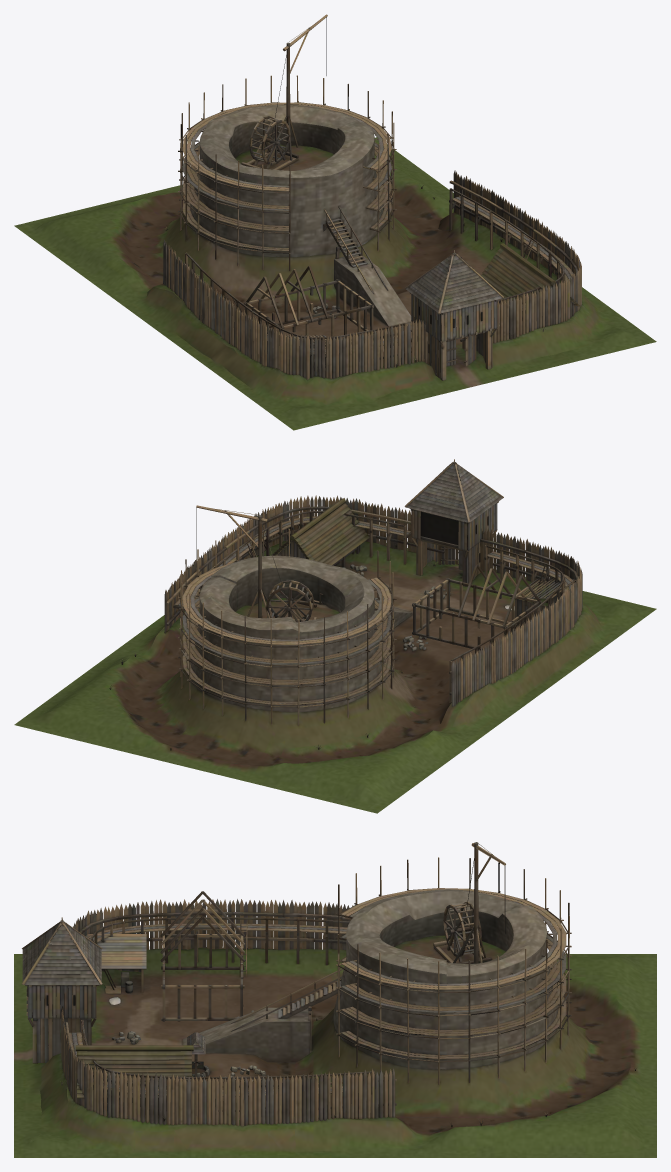
The model's file is shell_keep_build2.glb.
3 renders of one model, top to bottom at view 1: azimuth 30°, elevation 25°; view 2: azimuth 150°, elevation 25°; view 3: azimuth 270°, elevation 25°, orthographic. The views are drawn at different scales.
Parts seen in each view (by area): view 1: shell_keep_build2_LOD0; view 2: shell_keep_build2_LOD0; view 3: shell_keep_build2_LOD0.
Boxes of the visible parts, left/top/right/bottom form: shell_keep_build2_LOD0: left=14, top=14, right=656, bottom=430; shell_keep_build2_LOD0: left=14, top=459, right=656, bottom=813; shell_keep_build2_LOD0: left=14, top=842, right=656, bottom=1157.
Size of what is drawn, in the model's own units: 36 by 18.89 by 48.
Materials: 1 (1 with a texture image).
